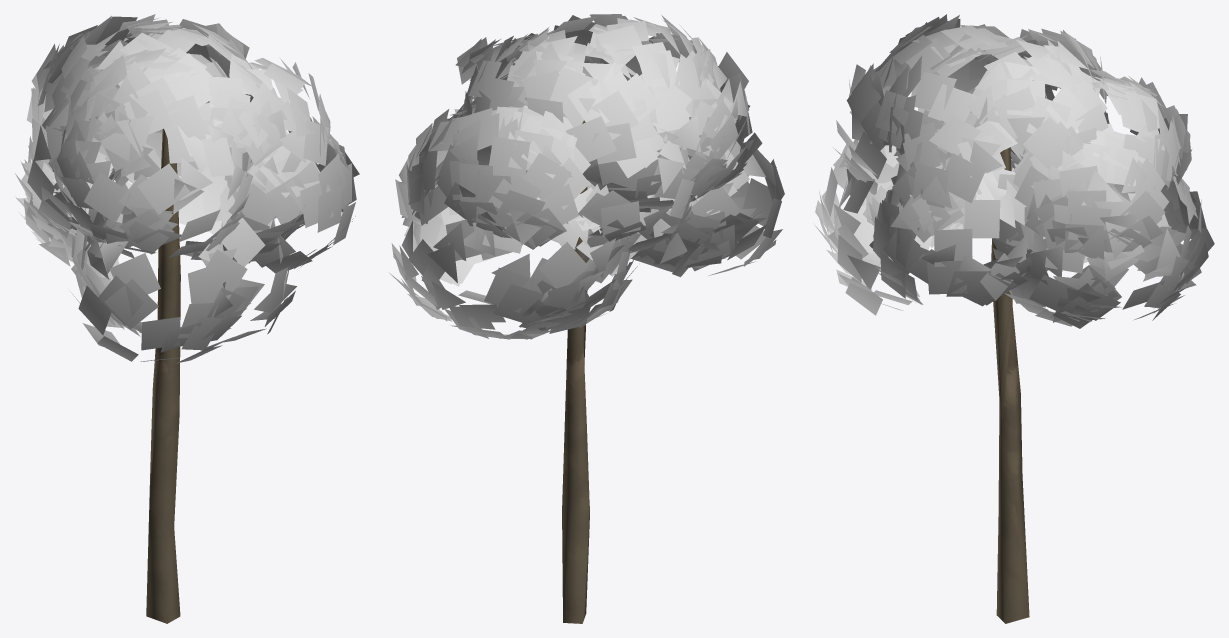
Rendered from Standar Tree Tall_LOD_2.fbx.
3 renders of one model, left to right at view 1: azimuth 30°, elevation 25°; view 2: azimuth 150°, elevation 25°; view 3: azimuth 270°, elevation 25°, orthographic. The views are drawn at different scales.
Parts seen in each view (by area): view 1: Top_Tree_Tall_LOD_2, Standar_Trunk_Tall_LOD_2; view 2: Top_Tree_Tall_LOD_2, Standar_Trunk_Tall_LOD_2; view 3: Top_Tree_Tall_LOD_2, Standar_Trunk_Tall_LOD_2.
Boxes of the visible parts, bbox=[...] form: Top_Tree_Tall_LOD_2: bbox=[15, 14, 359, 363]; Standar_Trunk_Tall_LOD_2: bbox=[146, 128, 180, 623]; Top_Tree_Tall_LOD_2: bbox=[389, 14, 784, 339]; Standar_Trunk_Tall_LOD_2: bbox=[562, 120, 589, 623]; Top_Tree_Tall_LOD_2: bbox=[813, 14, 1214, 328]; Standar_Trunk_Tall_LOD_2: bbox=[991, 147, 1029, 623].
Bounding box in the file's own units: 1573 × 3023 × 1910.
